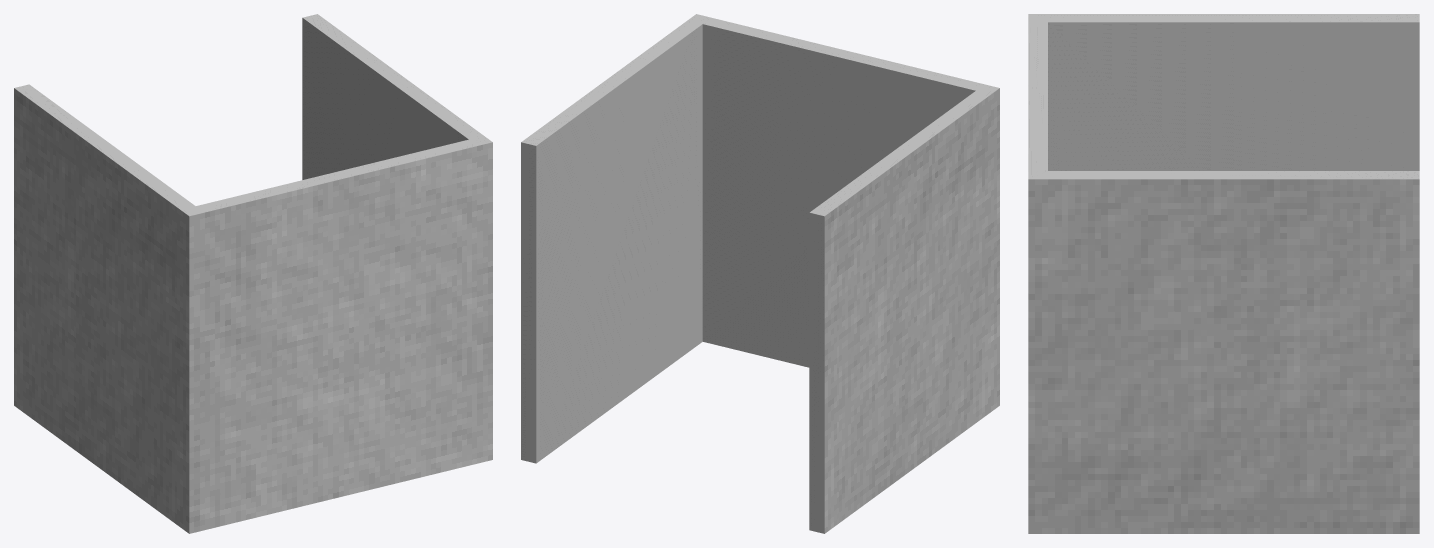
Rendered from 2x2boxarc_wtf.obj.
The picture shows the model from 3 angles, left to right: view 1: azimuth 30°, elevation 25°; view 2: azimuth 150°, elevation 25°; view 3: azimuth 270°, elevation 25°; orthographic projection. The views are drawn at different scales.
Visible parts, largest first — view 1: group2; view 2: group2; view 3: group2.
Part boxes in pixels (left/top/right/bottom): group2: left=14, top=14, right=492, bottom=533; group2: left=521, top=14, right=999, bottom=533; group2: left=1028, top=14, right=1419, bottom=533.
Size of the model in its own units: 660 by 660 by 660.
